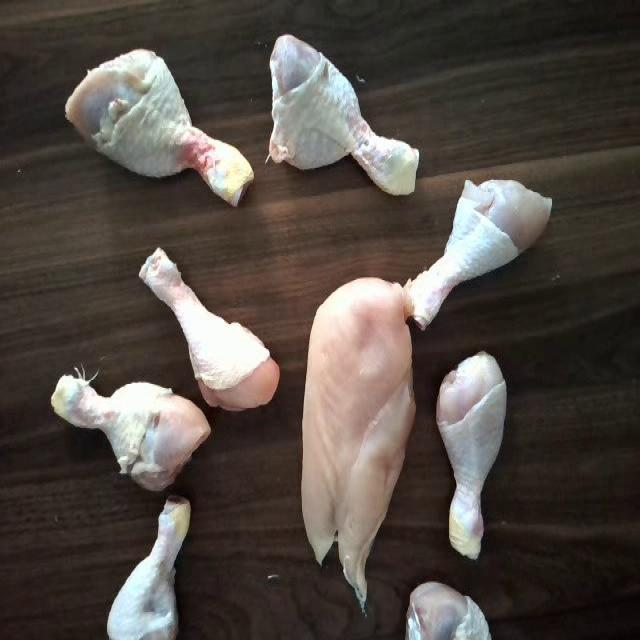breast: (293, 268, 419, 584)
leg: (57, 42, 251, 200), (402, 156, 558, 334), (272, 29, 421, 208), (130, 239, 280, 408), (42, 354, 220, 494), (434, 344, 508, 566), (103, 496, 197, 640), (398, 573, 494, 640)
